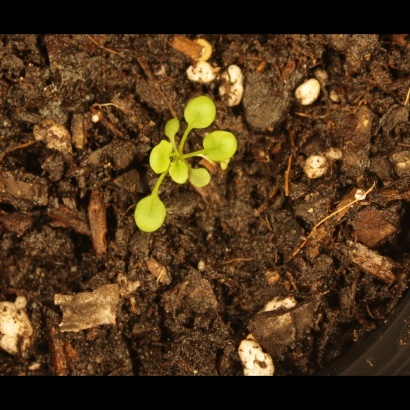leaf: (129, 189, 174, 241), (196, 130, 247, 164), (182, 88, 217, 130), (146, 136, 171, 176), (163, 156, 192, 186), (183, 166, 216, 190), (161, 117, 185, 140)
